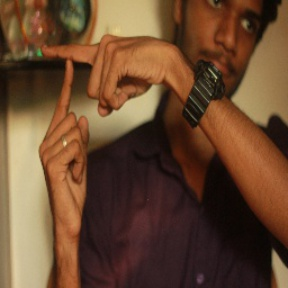T: (25, 35, 109, 145)
